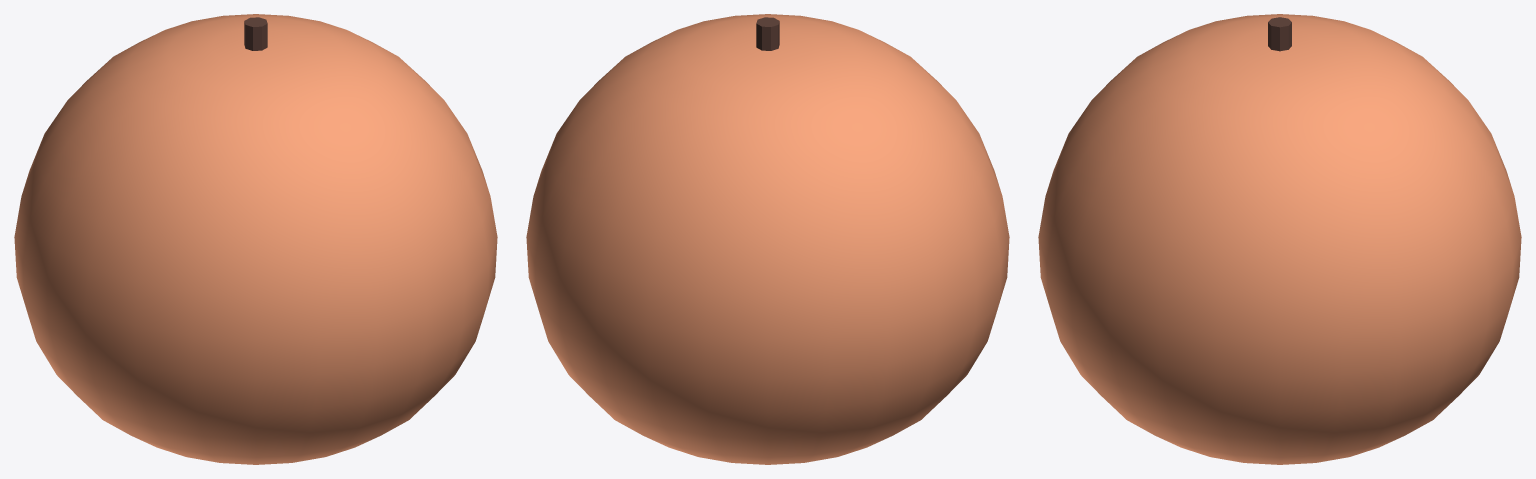
File: Peach.fbx
3 renders of one model, left to right at view 1: azimuth 30°, elevation 25°; view 2: azimuth 150°, elevation 25°; view 3: azimuth 270°, elevation 25°, orthographic.
Visible parts, largest first — view 1: Peach; view 2: Peach; view 3: Peach.
Part boxes in pixels (bbox=[...]): Peach: bbox=[14, 14, 497, 464]; Peach: bbox=[526, 14, 1009, 464]; Peach: bbox=[1038, 14, 1521, 464].
Bounding box in the file's own units: 0.08 × 0.0742 × 0.08.
